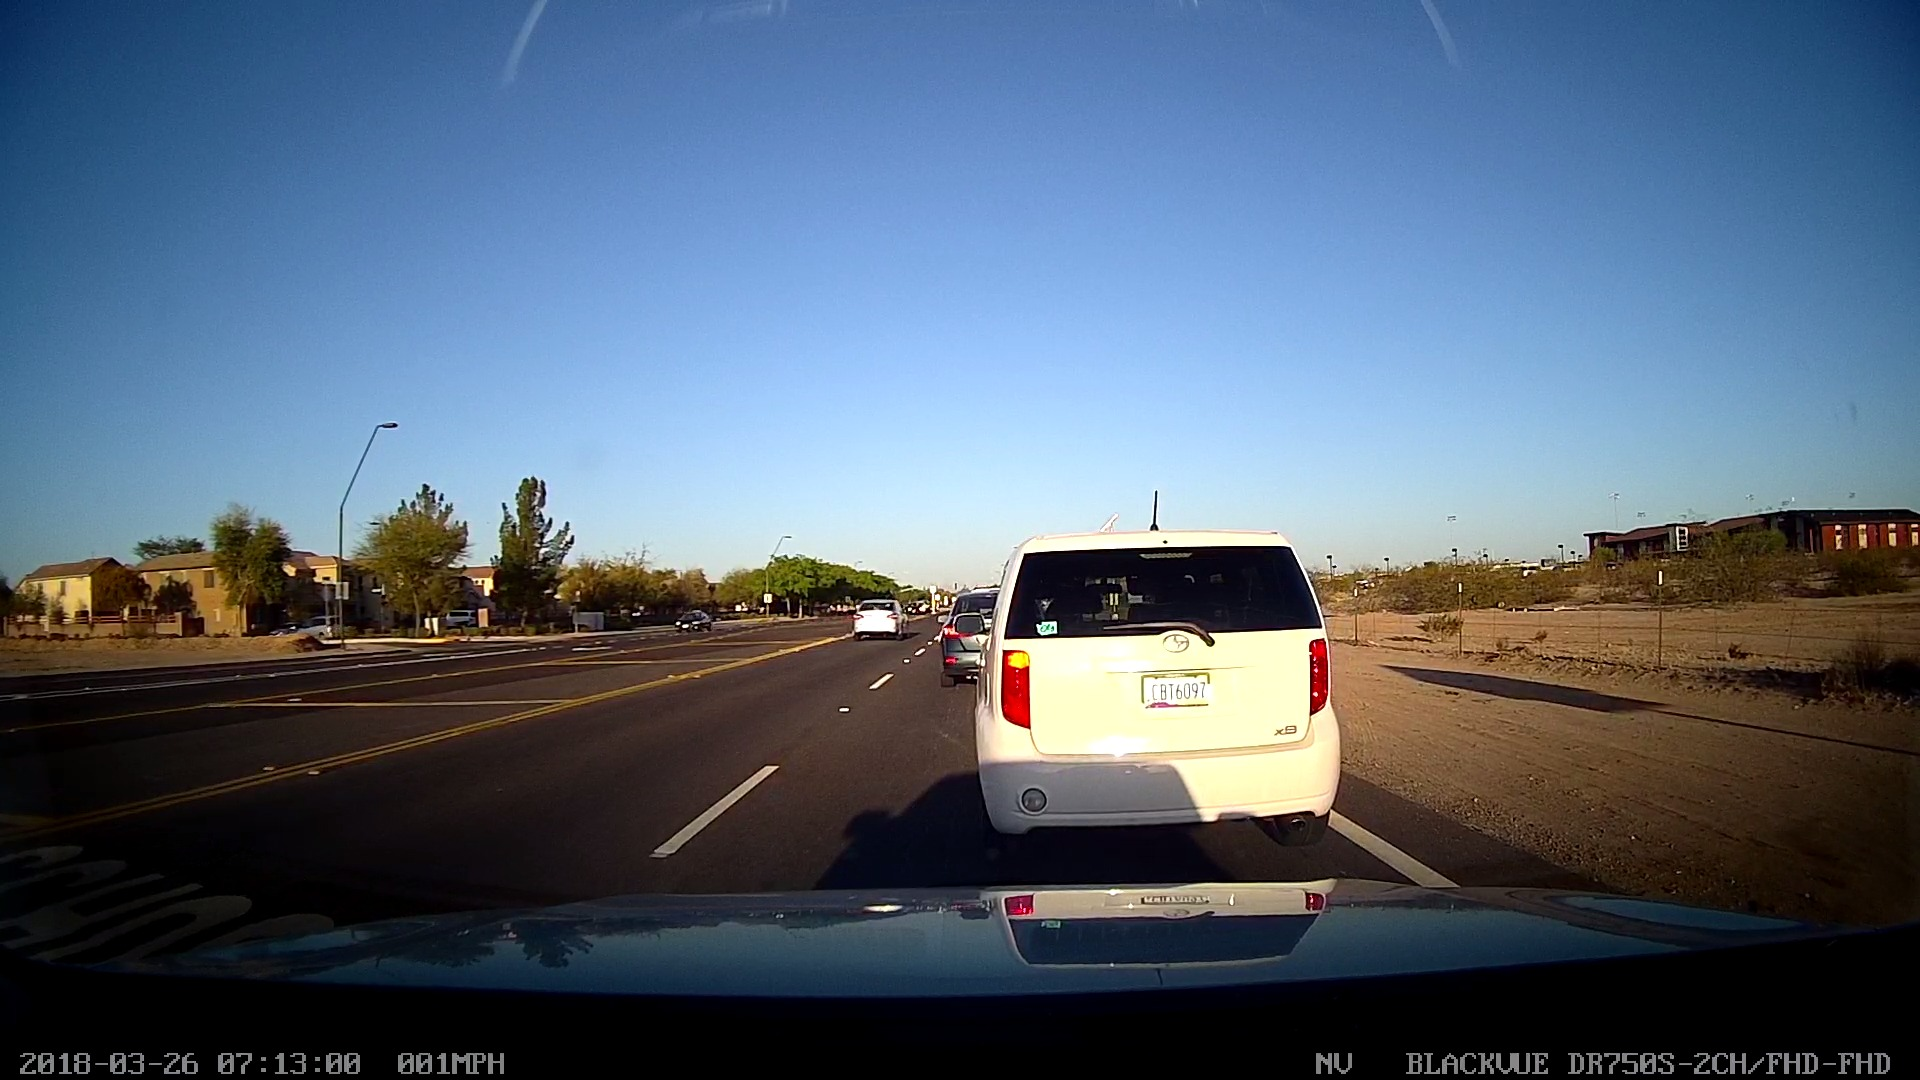plate: (1134, 664, 1221, 717)
vehicle: (961, 519, 1347, 851), (933, 575, 993, 684), (842, 586, 913, 646), (288, 607, 361, 648), (668, 601, 711, 639)
